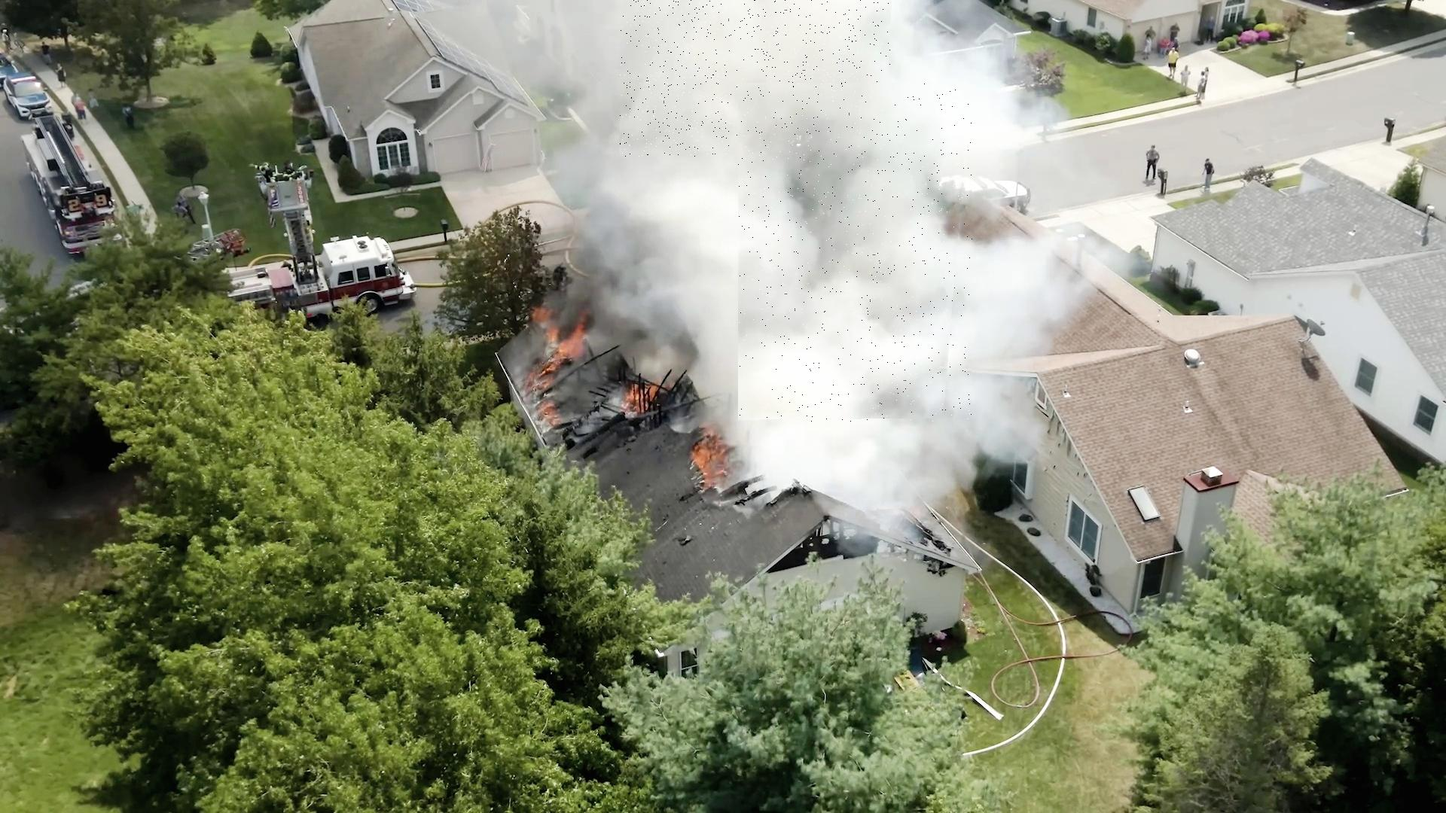smoke: (739, 83, 973, 422), (620, 0, 893, 157)
